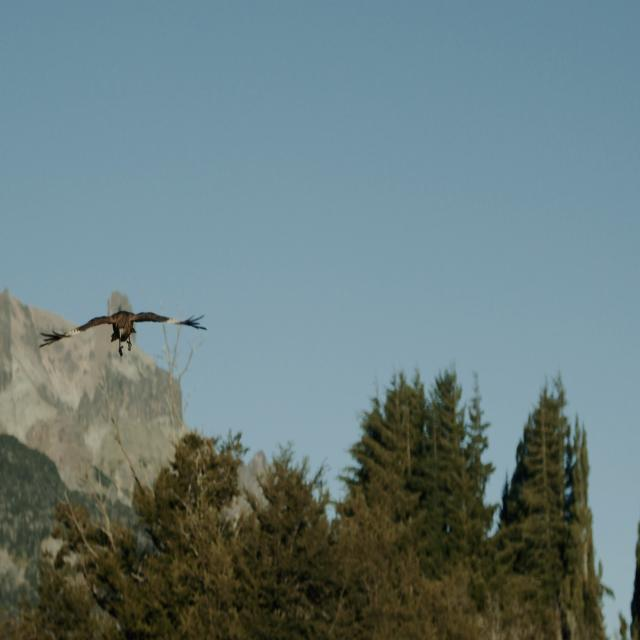bird: (41, 295, 200, 364)
